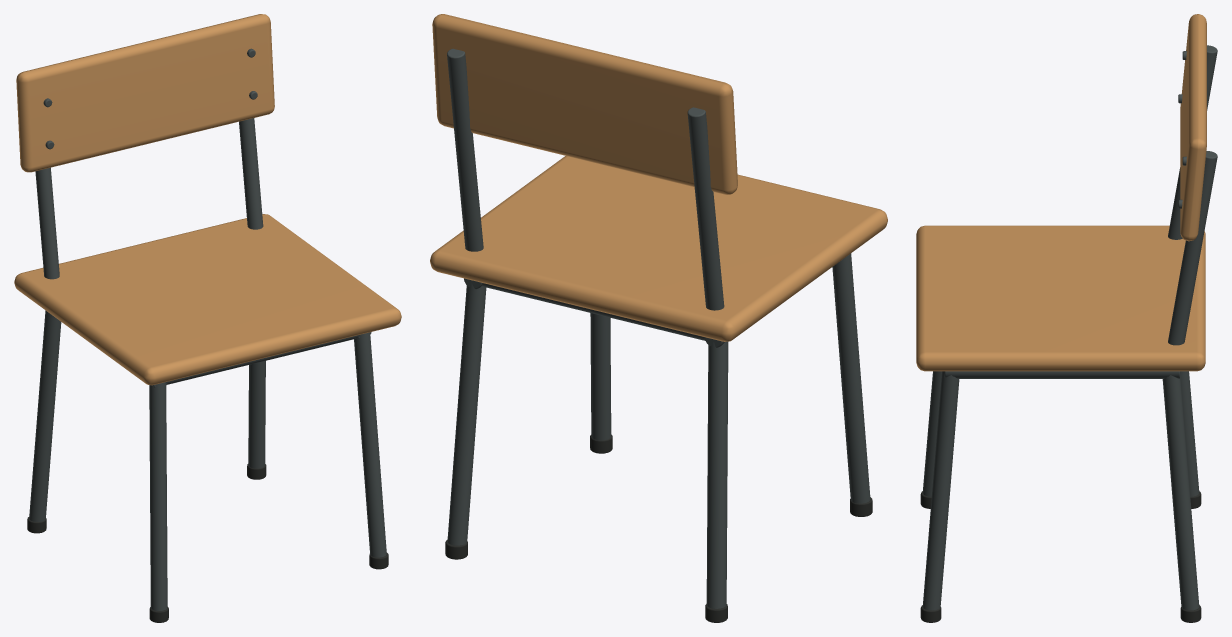
Rendered from StudentChair.fbx.
The picture shows the model from 3 angles, left to right: view 1: azimuth 30°, elevation 25°; view 2: azimuth 150°, elevation 25°; view 3: azimuth 270°, elevation 25°; orthographic projection. The views are drawn at different scales.
Parts seen in each view (by area): view 1: Seat, Backrest, Leg, Leg.002, Leg.001, Leg.003, Back upright, Back upright.001, Cross rail.001; view 2: Seat, Backrest, Leg.001, Leg.003, Leg, Back upright.001, Back upright, Leg.002, Cross rail; view 3: Seat, Backrest, Leg.002, Leg.003, Back upright, Seat rail.001, Leg.001, Leg, Back upright.001.
Part boxes in pixels (bbox=[...]): Seat: bbox=[14, 214, 401, 385]; Backrest: bbox=[16, 14, 274, 172]; Leg: bbox=[149, 382, 167, 610]; Leg.002: bbox=[354, 332, 386, 557]; Leg.001: bbox=[29, 310, 61, 521]; Leg.003: bbox=[248, 361, 265, 468]; Back upright: bbox=[239, 118, 263, 229]; Back upright.001: bbox=[35, 167, 59, 279]; Cross rail.001: bbox=[165, 335, 359, 384]; Seat: bbox=[430, 156, 887, 341]; Backrest: bbox=[432, 14, 737, 194]; Leg.001: bbox=[706, 341, 728, 608]; Leg.003: bbox=[447, 282, 486, 545]; Leg: bbox=[832, 253, 870, 503]; Back upright.001: bbox=[687, 107, 724, 310]; Back upright: bbox=[447, 48, 483, 251]; Leg.002: bbox=[590, 313, 611, 440]; Cross rail: bbox=[482, 283, 705, 340]; Seat: bbox=[916, 225, 1205, 371]; Backrest: bbox=[1180, 14, 1206, 241]; Leg.002: bbox=[922, 371, 959, 610]; Leg.003: bbox=[1162, 373, 1199, 610]; Back upright: bbox=[1168, 151, 1217, 345]; Seat rail.001: bbox=[944, 371, 1179, 378]; Leg.001: bbox=[1180, 371, 1199, 496]; Leg: bbox=[922, 371, 941, 496]; Back upright.001: bbox=[1168, 45, 1217, 239].
Size of the model in its own units: 49 by 83.27 by 46.85.
